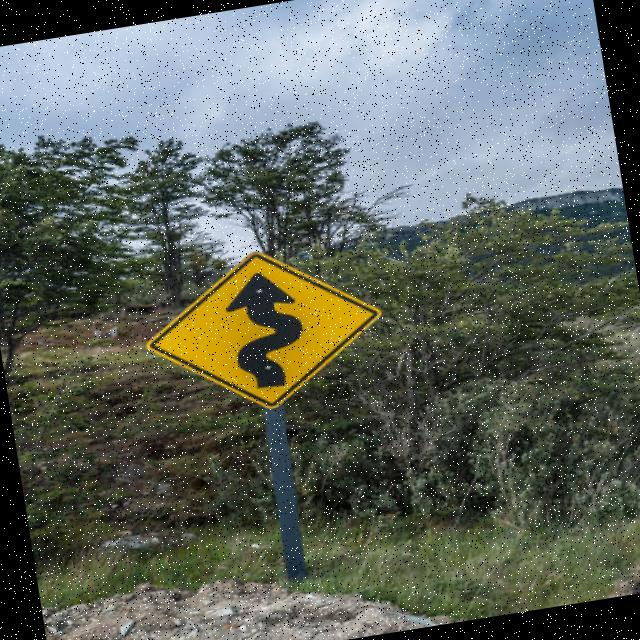left_sharp_curve: (117, 228, 398, 436)
